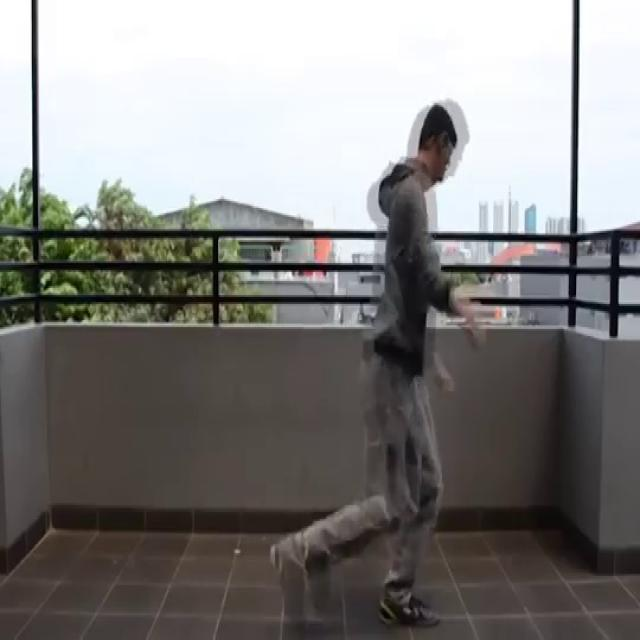normal: (264, 98, 499, 640)
